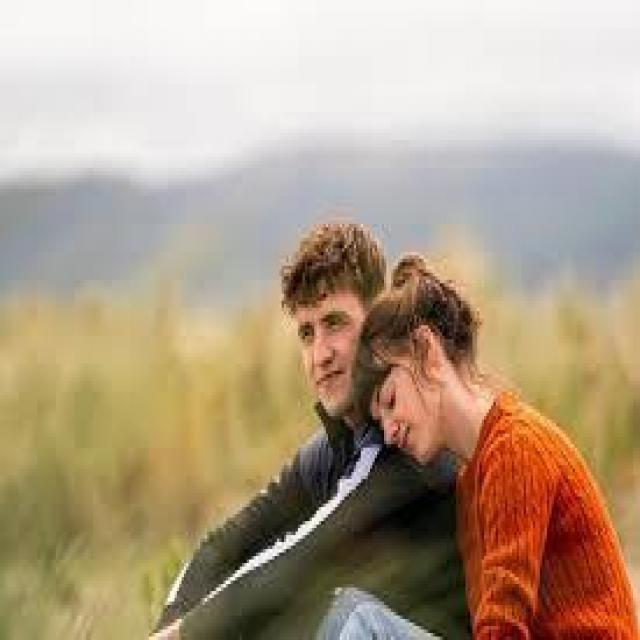person: (158, 193, 452, 636), (347, 248, 612, 636)
